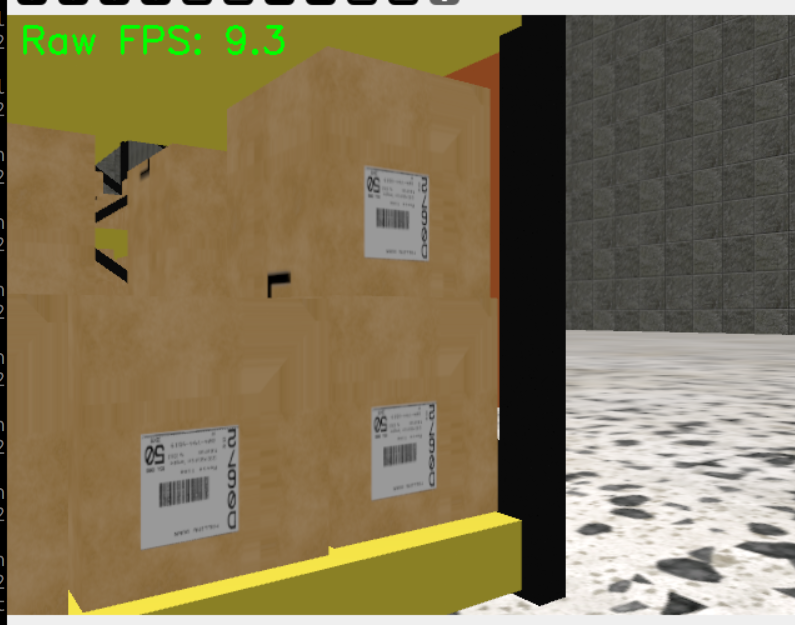barcode: (136, 423, 247, 549), (367, 400, 441, 503), (362, 165, 430, 264)
